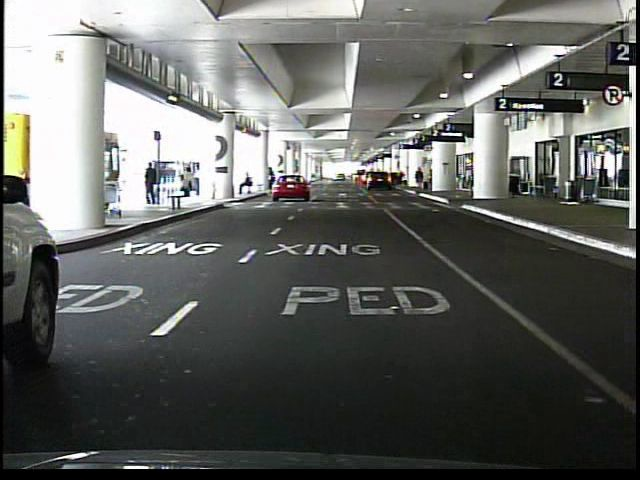person: (147, 164, 162, 207), (465, 162, 476, 200), (237, 172, 254, 195), (415, 166, 425, 192)
